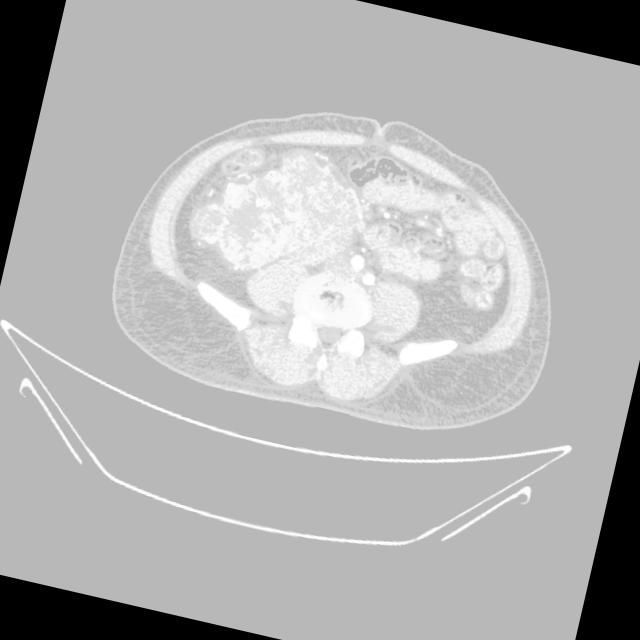TUMOR: (153, 114, 511, 418)
